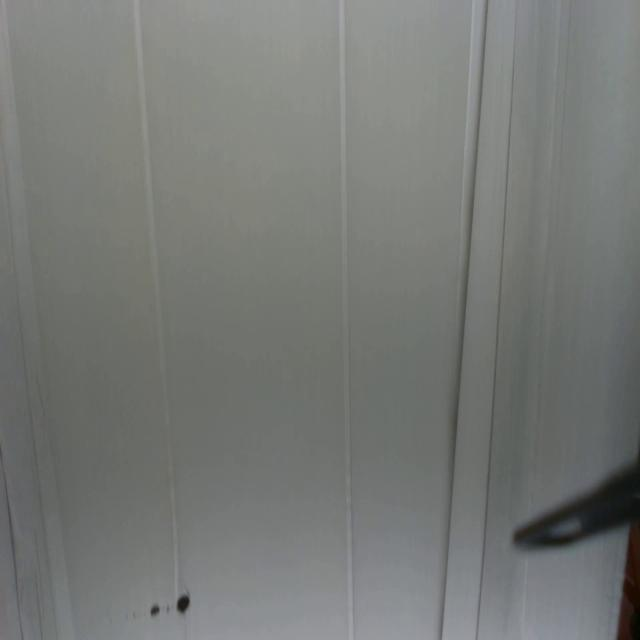crease: (439, 0, 489, 639), (132, 0, 178, 585), (476, 0, 518, 640), (4, 141, 58, 634), (338, 0, 356, 640), (0, 447, 24, 638), (555, 0, 573, 188), (34, 529, 44, 638)
hole: (176, 590, 192, 619), (148, 600, 162, 620), (123, 609, 130, 621), (131, 608, 138, 619), (166, 608, 170, 617)
